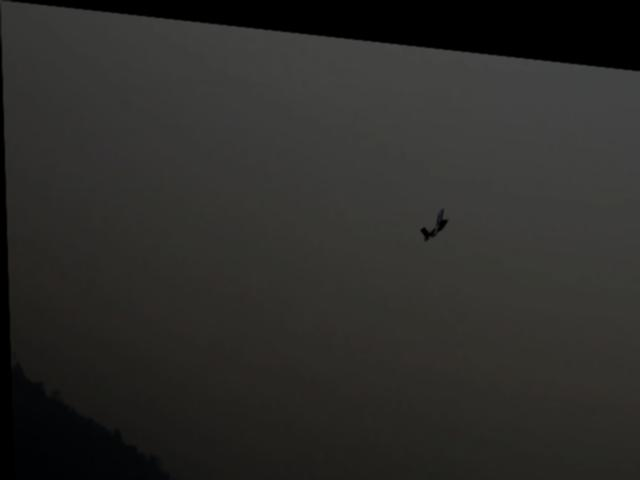plane: (419, 196, 449, 233)
